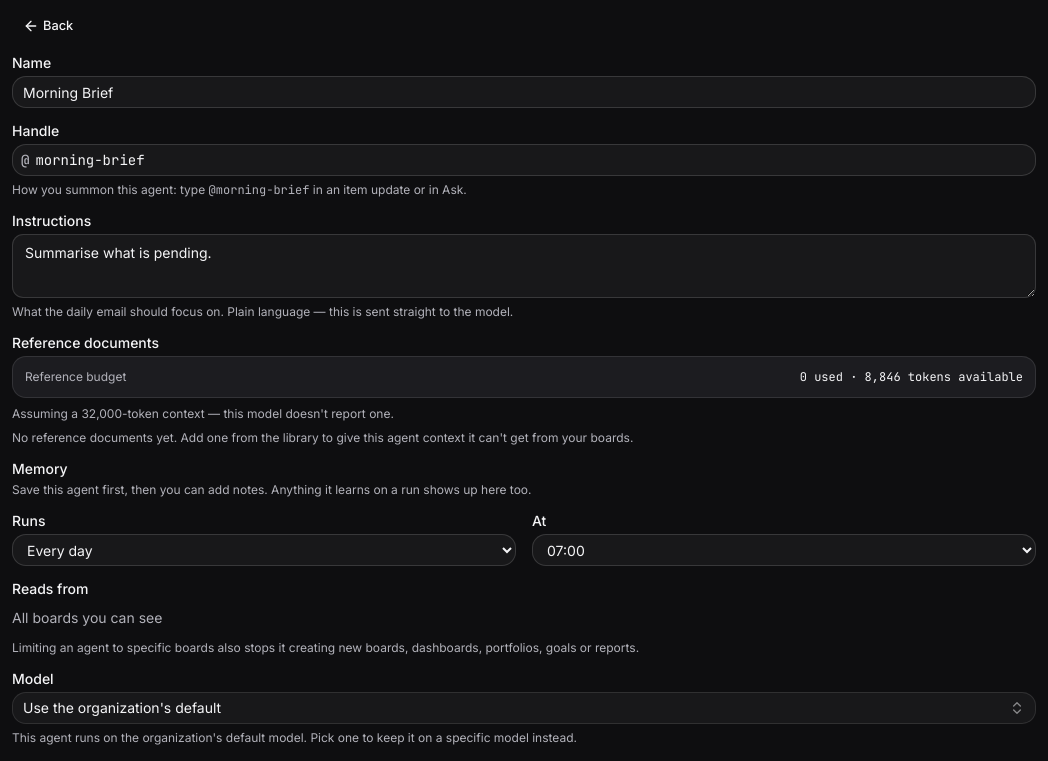
Test: AgentEditor · cadence › switches which select is revealed live as the cadence changes
Expected: the field labelled "weekday" is not shown
Select "Weekly" in the dropdown labelled "Runs" at (264, 550), box x1=12 y1=534 x2=516 y2=566
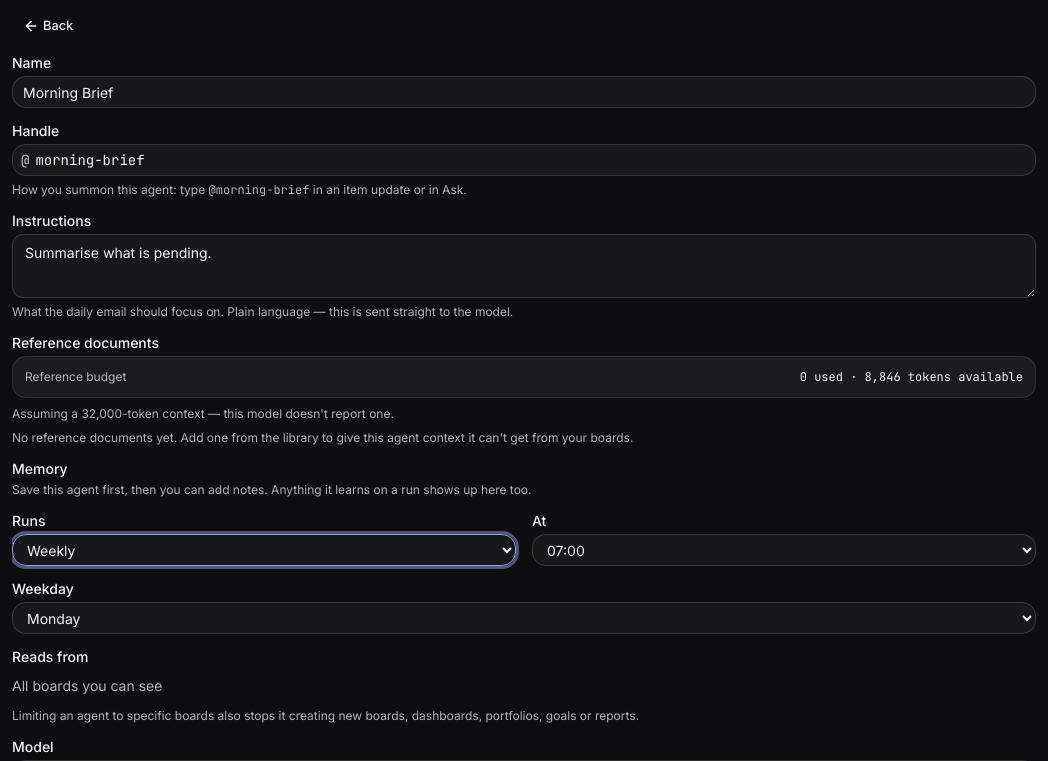
Expected: the field labelled "day of month" is not shown
Now the dropdown labelled "Weekday" is shown, box x1=12 y1=602 x2=1036 y2=634
Select "Monthly" in the dropdown labelled "Runs" at (264, 550), box x1=12 y1=534 x2=516 y2=566
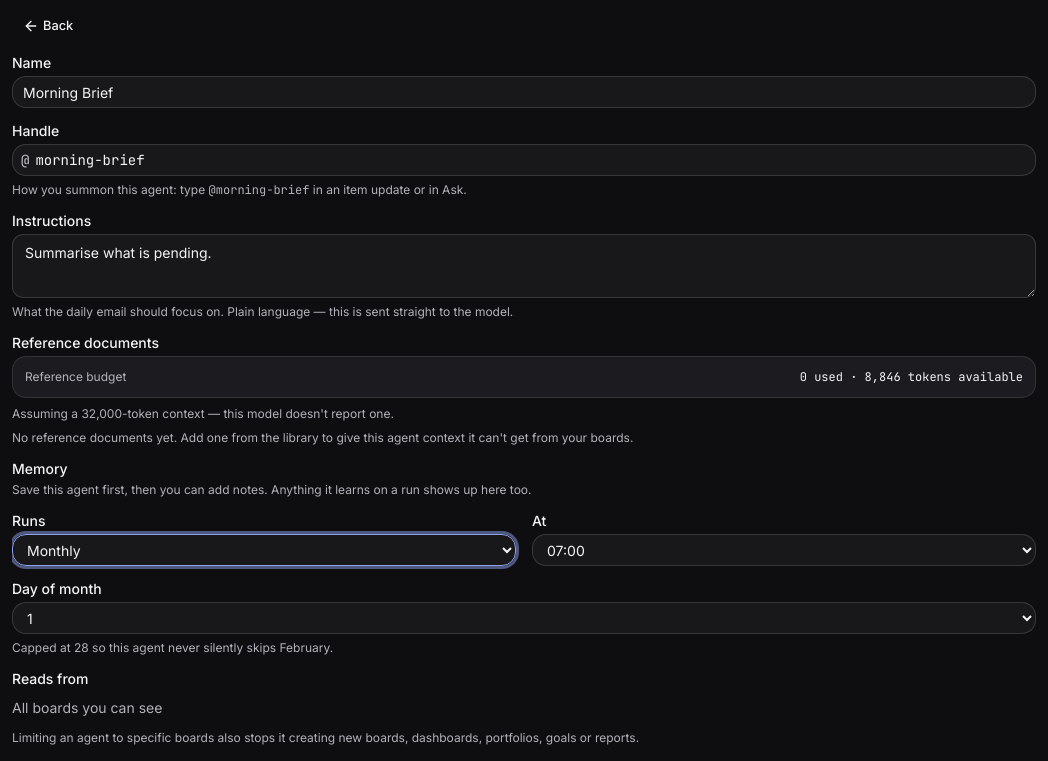
Now the dropdown labelled "Day of month" is shown, box x1=12 y1=602 x2=1036 y2=634
Now the label labelled "Weekday" is gone
